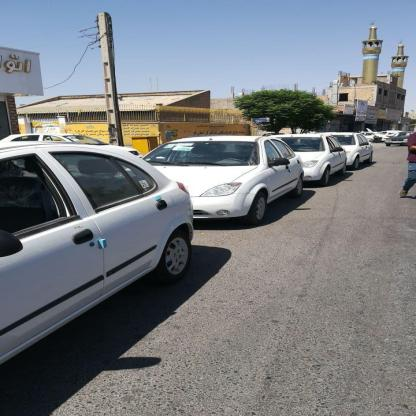Car: (0, 152, 185, 370), (133, 131, 307, 230), (270, 134, 357, 188), (321, 132, 382, 165)
